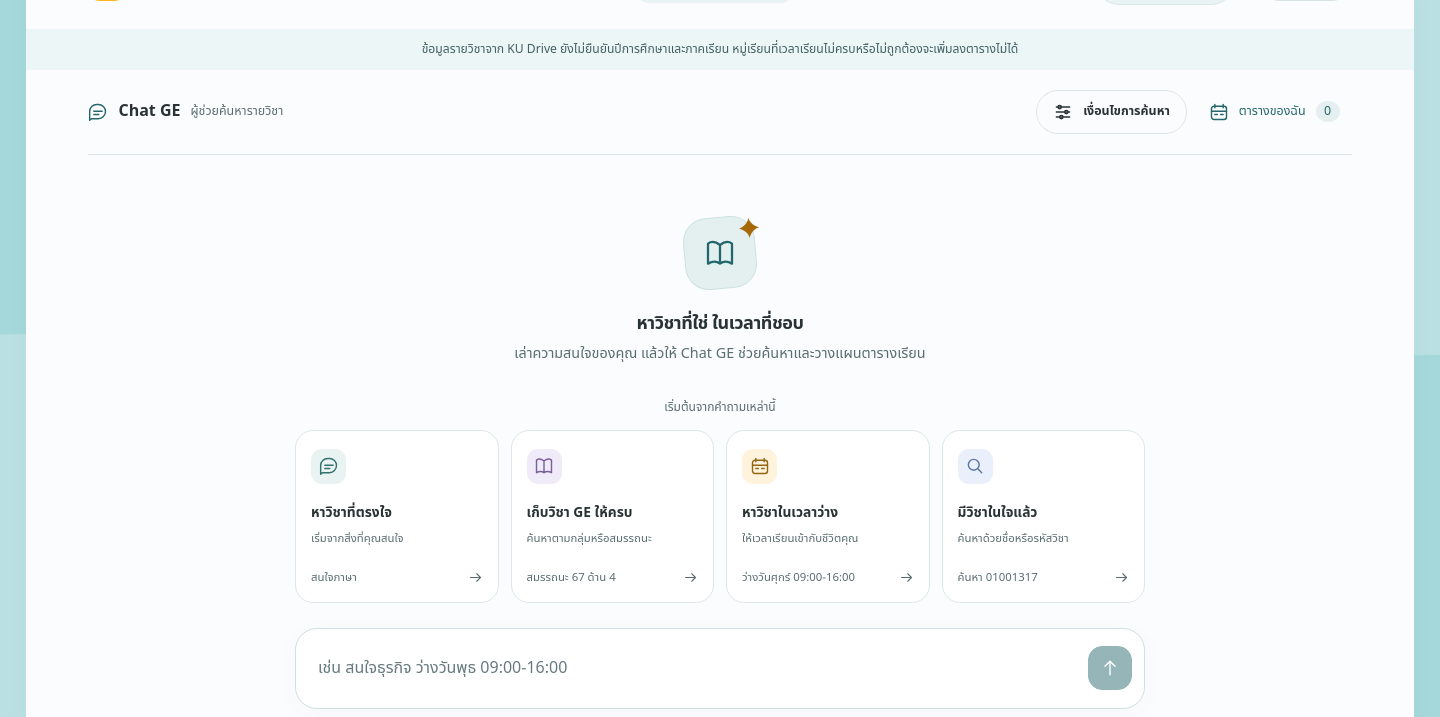
Test: shows catalog courses with unknown GE and asks about reversed times before showing results
Expected: the button "หาวิชาที่ตรงใจ" is enabled, [295,430,498,603]
In the field named "ถามเรื่องรายวิชา GE": (694, 668) [308,641,1080,696], type "อยากเรียนภาษาญี่ปุ่น มีเปิดวันไหนบ้าง"
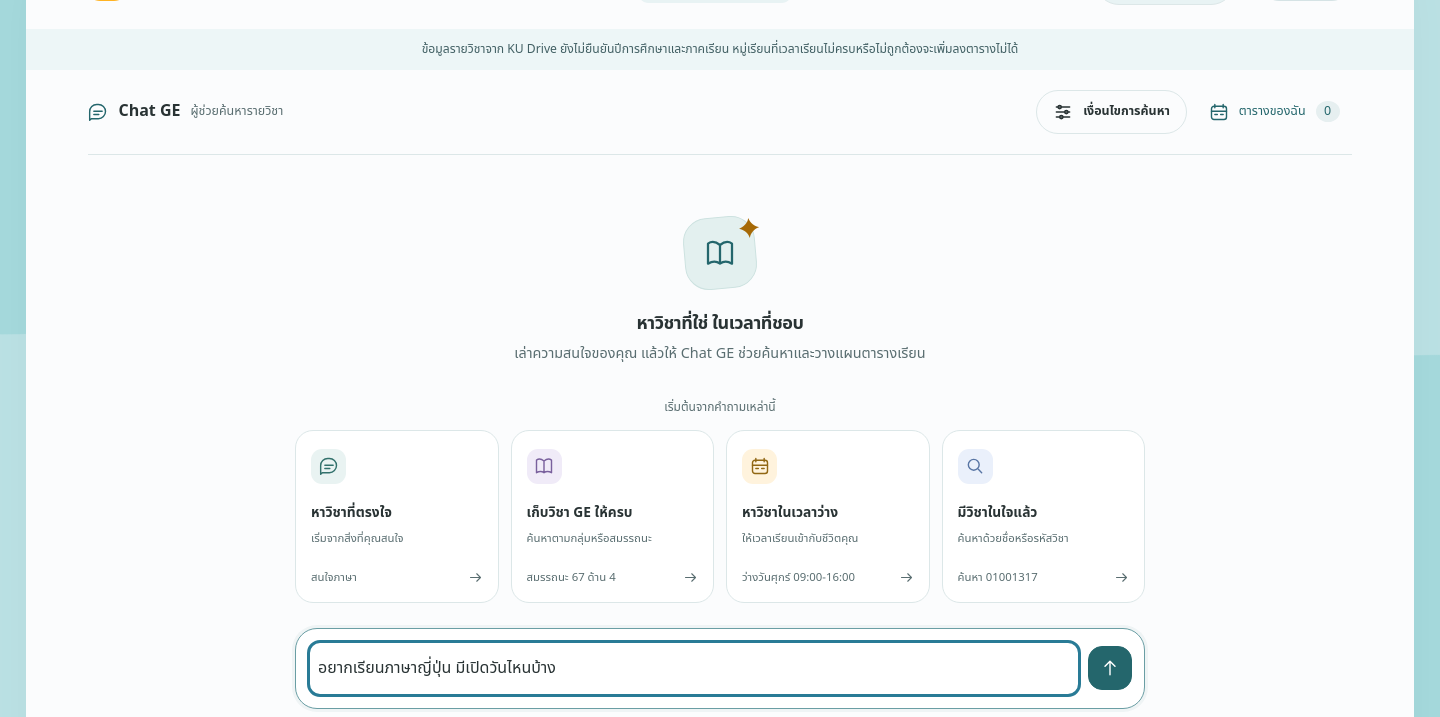
Click the button named "ส่งข้อความ": (1110, 668) [1088,646,1132,690]
(page scrolled)
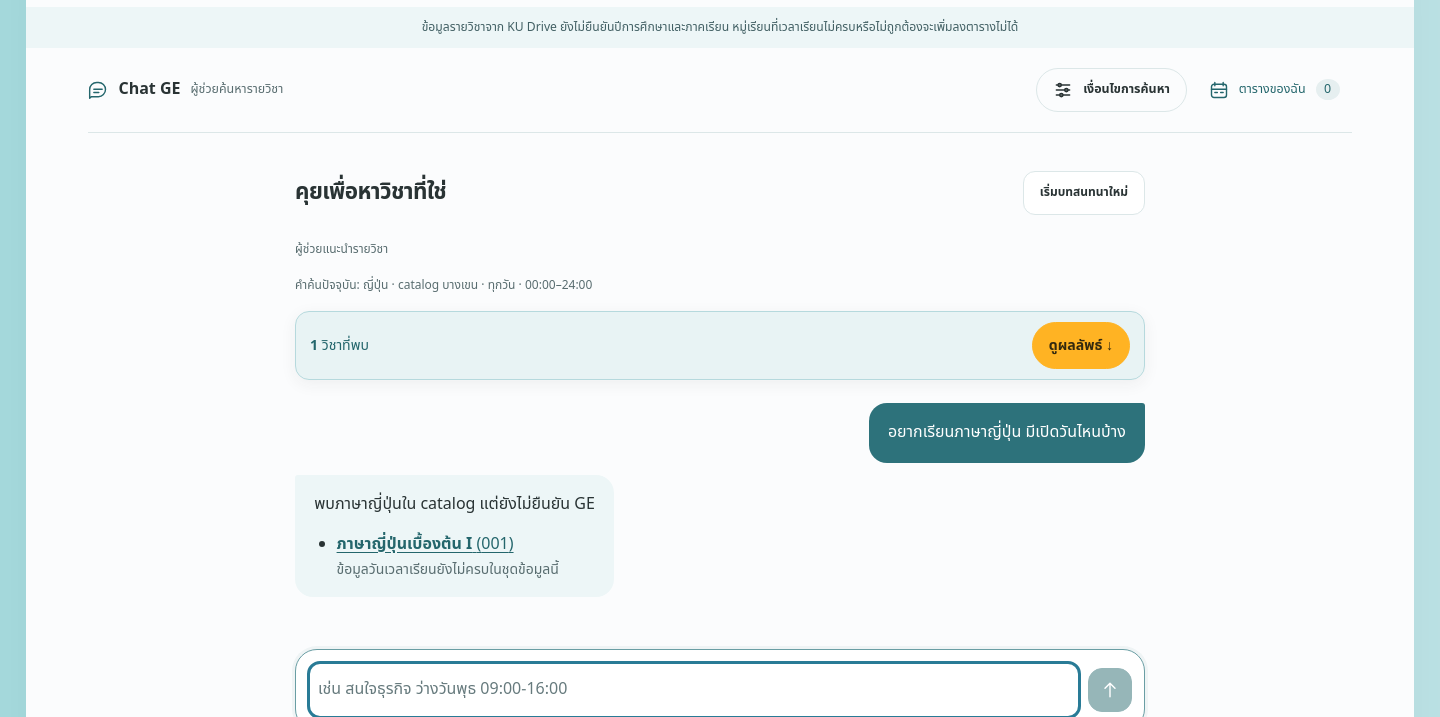
Expected: the text "คำค้นปัจจุบัน: ญี่ปุ่น · catalog บางเขน · ทุกวัน · 00:00–24:00" is shown, [295,276,592,294]
In the field named "ถามเรื่องรายวิชา GE": (694, 690) [308,662,1080,716], type "ว่างวันศุกร์ 16:00-09:00 มีวิชาไหนเปิดบ้าง"
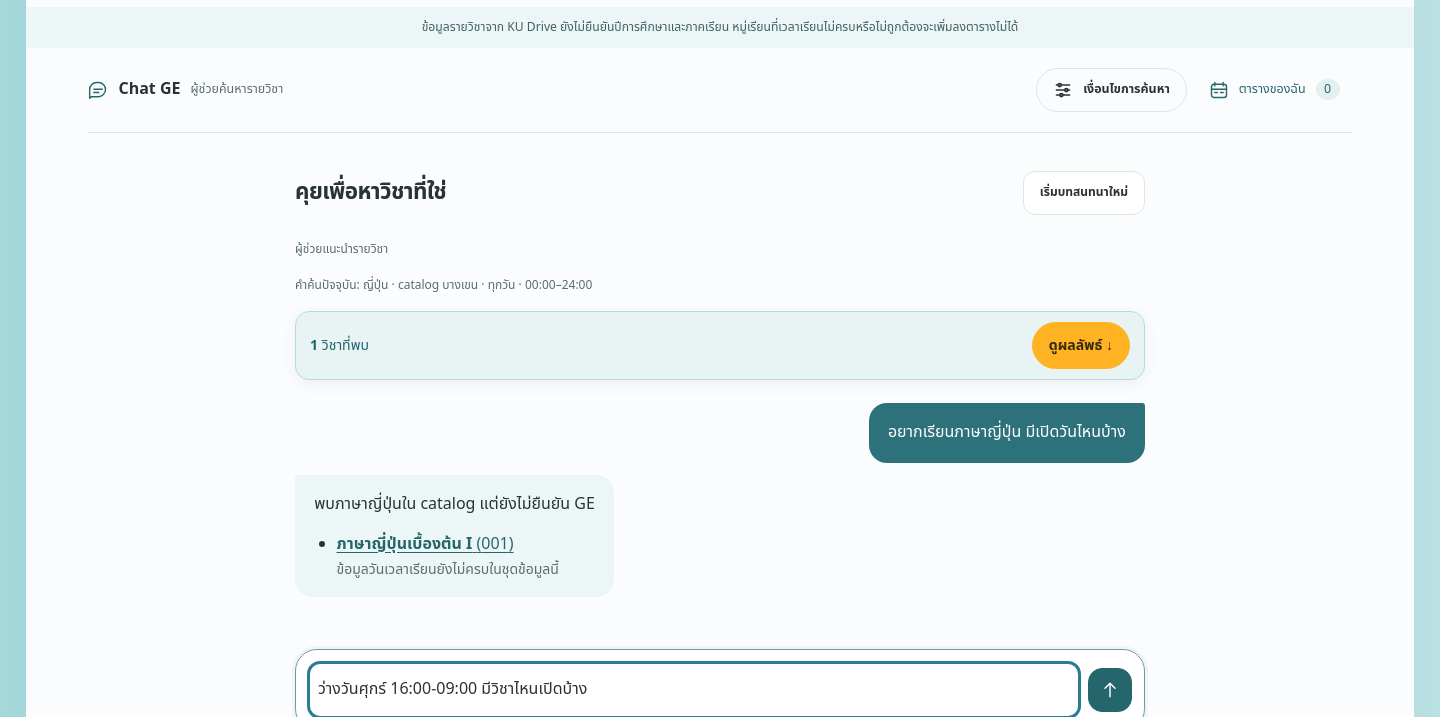
Click the button named "ส่งข้อความ": (1110, 690) [1088,668,1132,712]
(page scrolled)
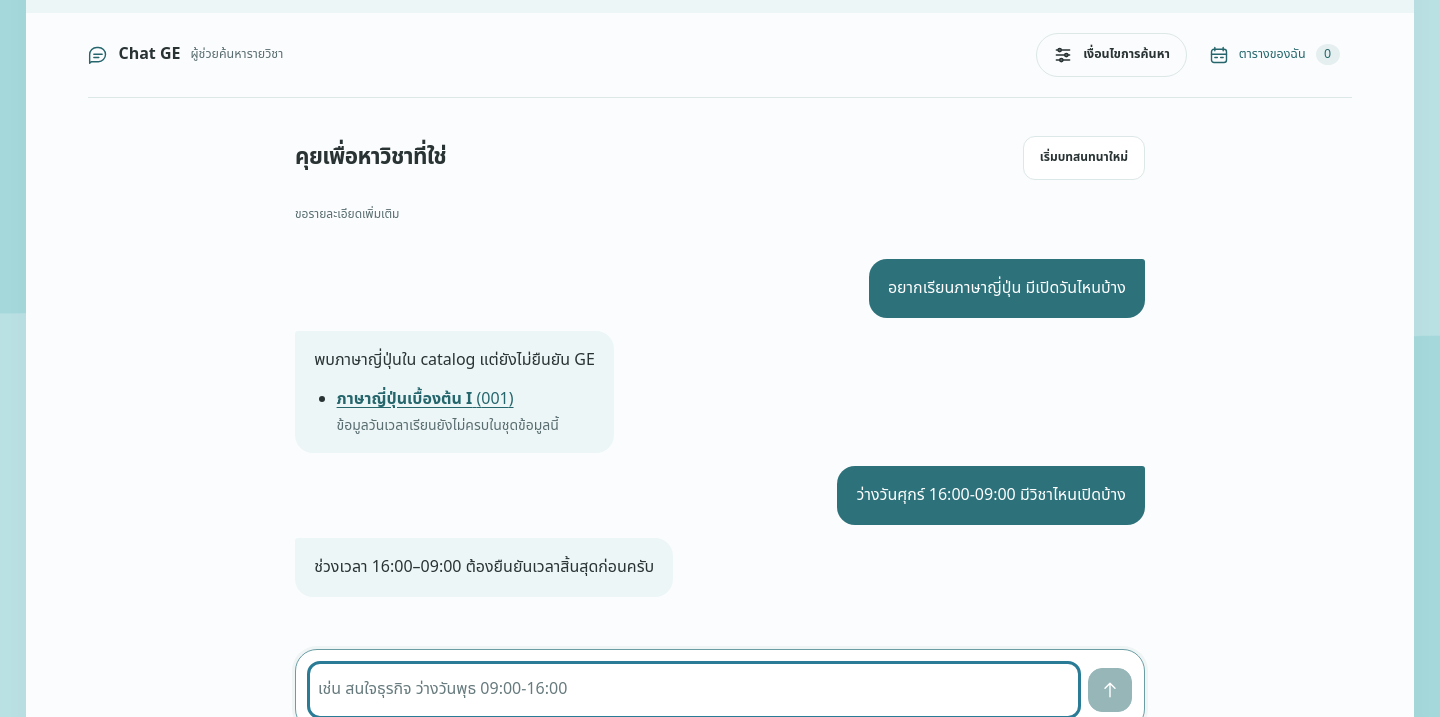
Expected: the text "ช่วงเวลา 16:00–09:00 ต้องยืนยันเวลาสิ้นสุดก่อนครับ" is shown, [295,538,673,597]
Expected: the button "ดูผลลัพธ์" is gone
